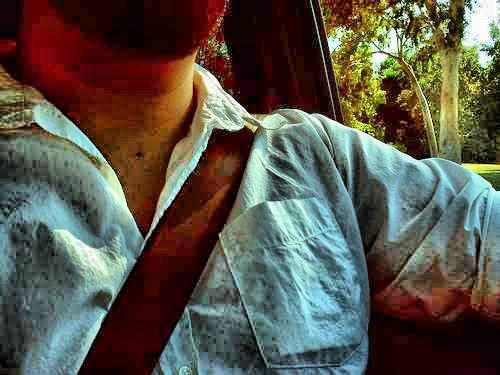seatbelt: (74, 110, 275, 350)
